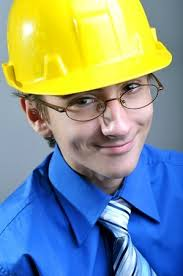Person_wearing_helmet: (0, 0, 177, 116)
